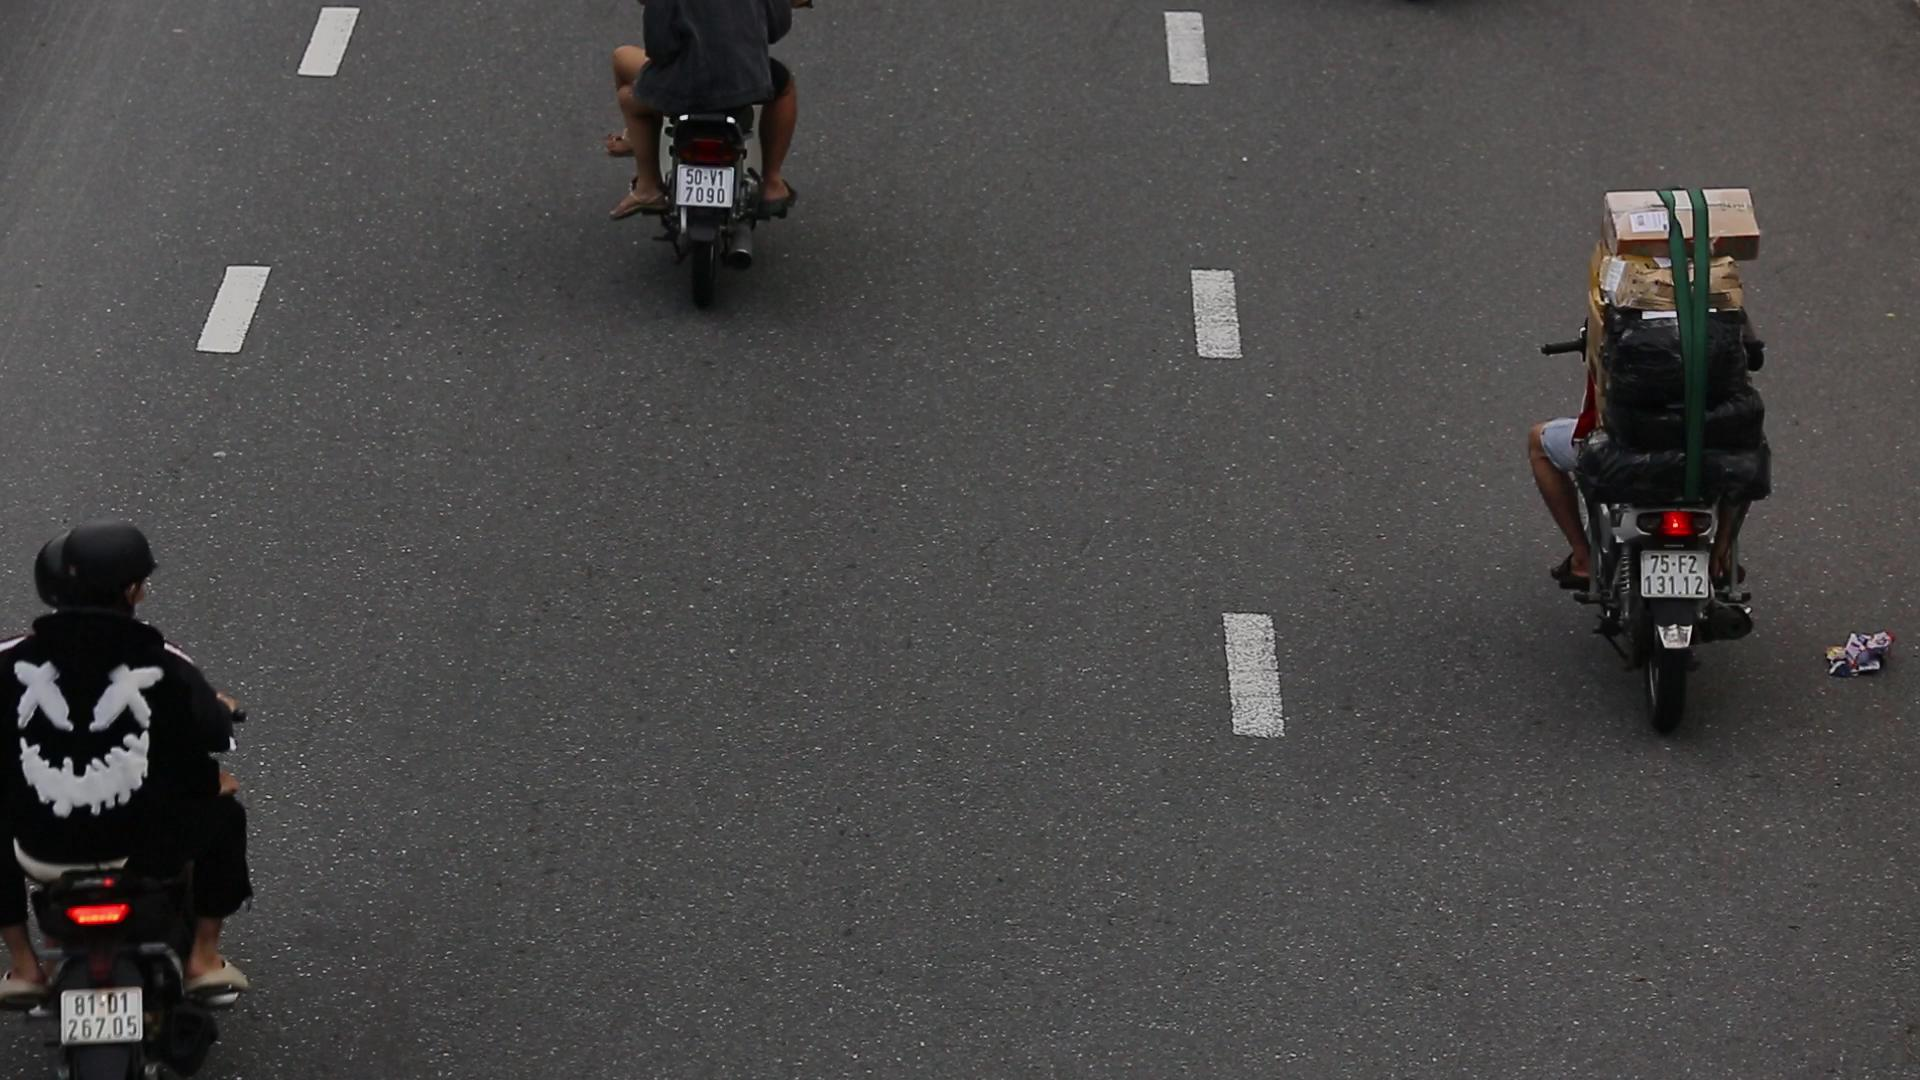motobike: (0, 509, 258, 1080)
